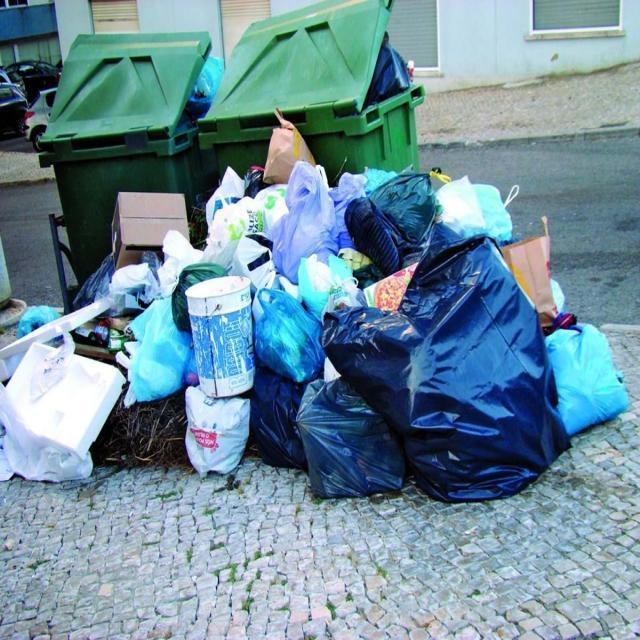garbage: (0, 164, 630, 494)
